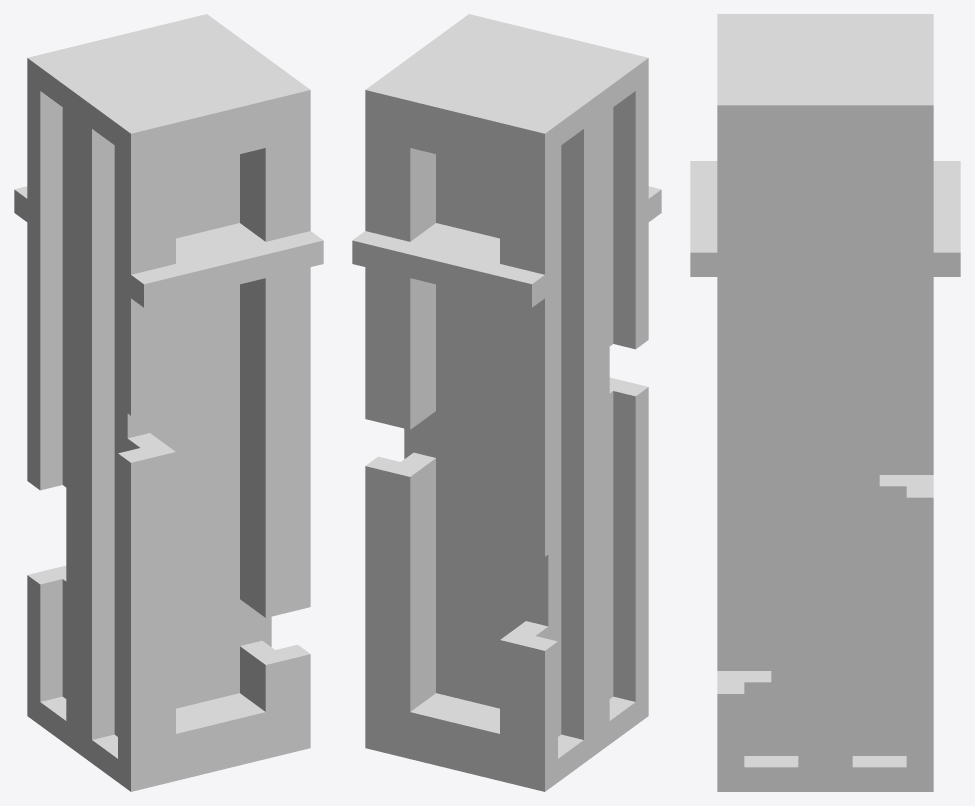
File: fence.obj
3 renders of one model, left to right at view 1: azimuth 30°, elevation 25°; view 2: azimuth 150°, elevation 25°; view 3: azimuth 270°, elevation 25°, orthographic. The views are drawn at different scales.
Size of the model in its own units: 8 by 28 by 10.
Materials: 1 (1 with a texture image).
